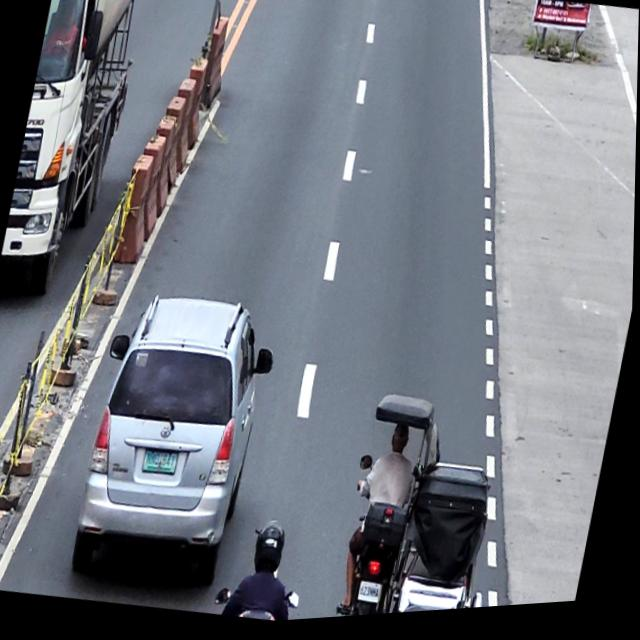Car: (68, 281, 285, 601)
License-Plate: (141, 446, 182, 480), (358, 584, 386, 611)
Motorcycle: (214, 580, 305, 628)
Tricycle: (330, 388, 523, 622)
Truck: (0, 0, 153, 306)
